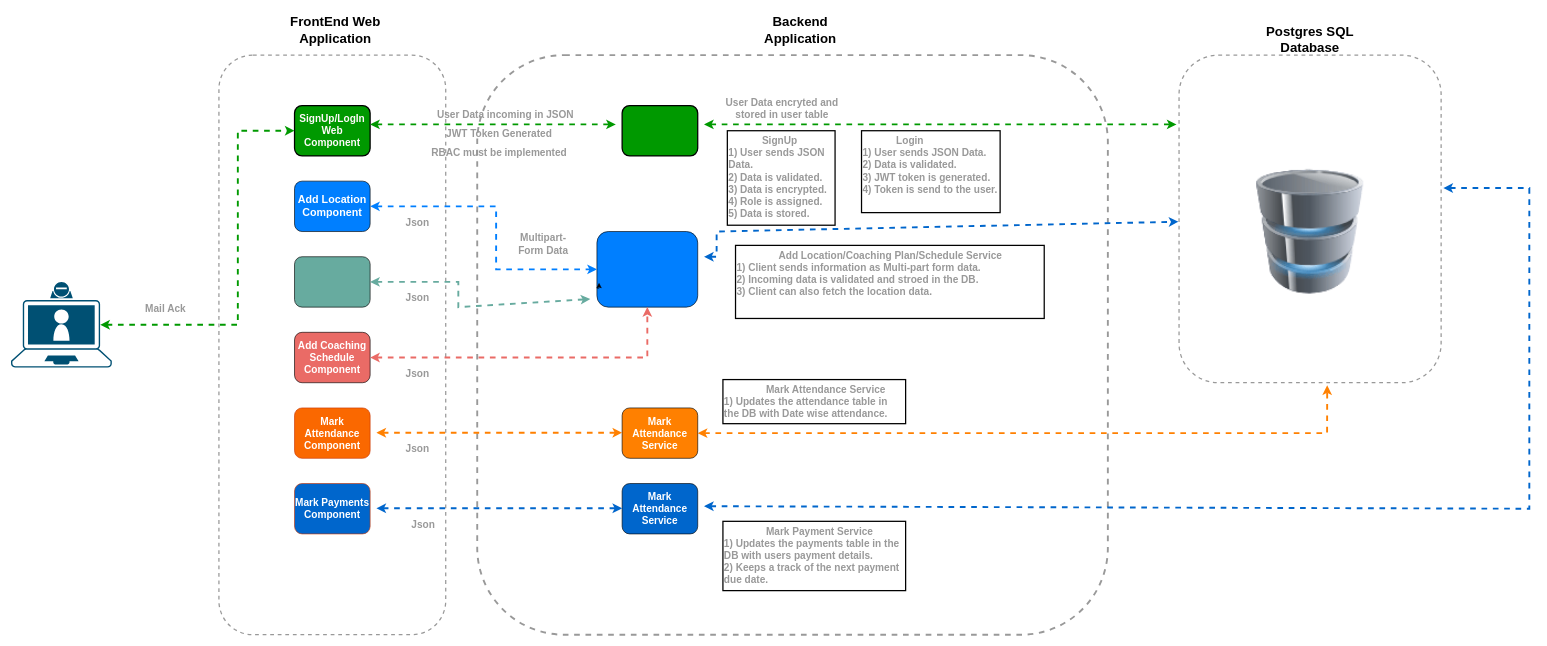
Some shapes in this 1547 by 646 pixel diagram are drawn without their labels. The box of each missing label's shape, as (x1, y1, x2, y2) in pixels:
Add Coaching Plan Component: (294, 256, 370, 307)
Add Location/Coaching Plan/Schedule Serivce: (596, 231, 698, 307)
SignUp/LogIn Service: (621, 105, 698, 156)
